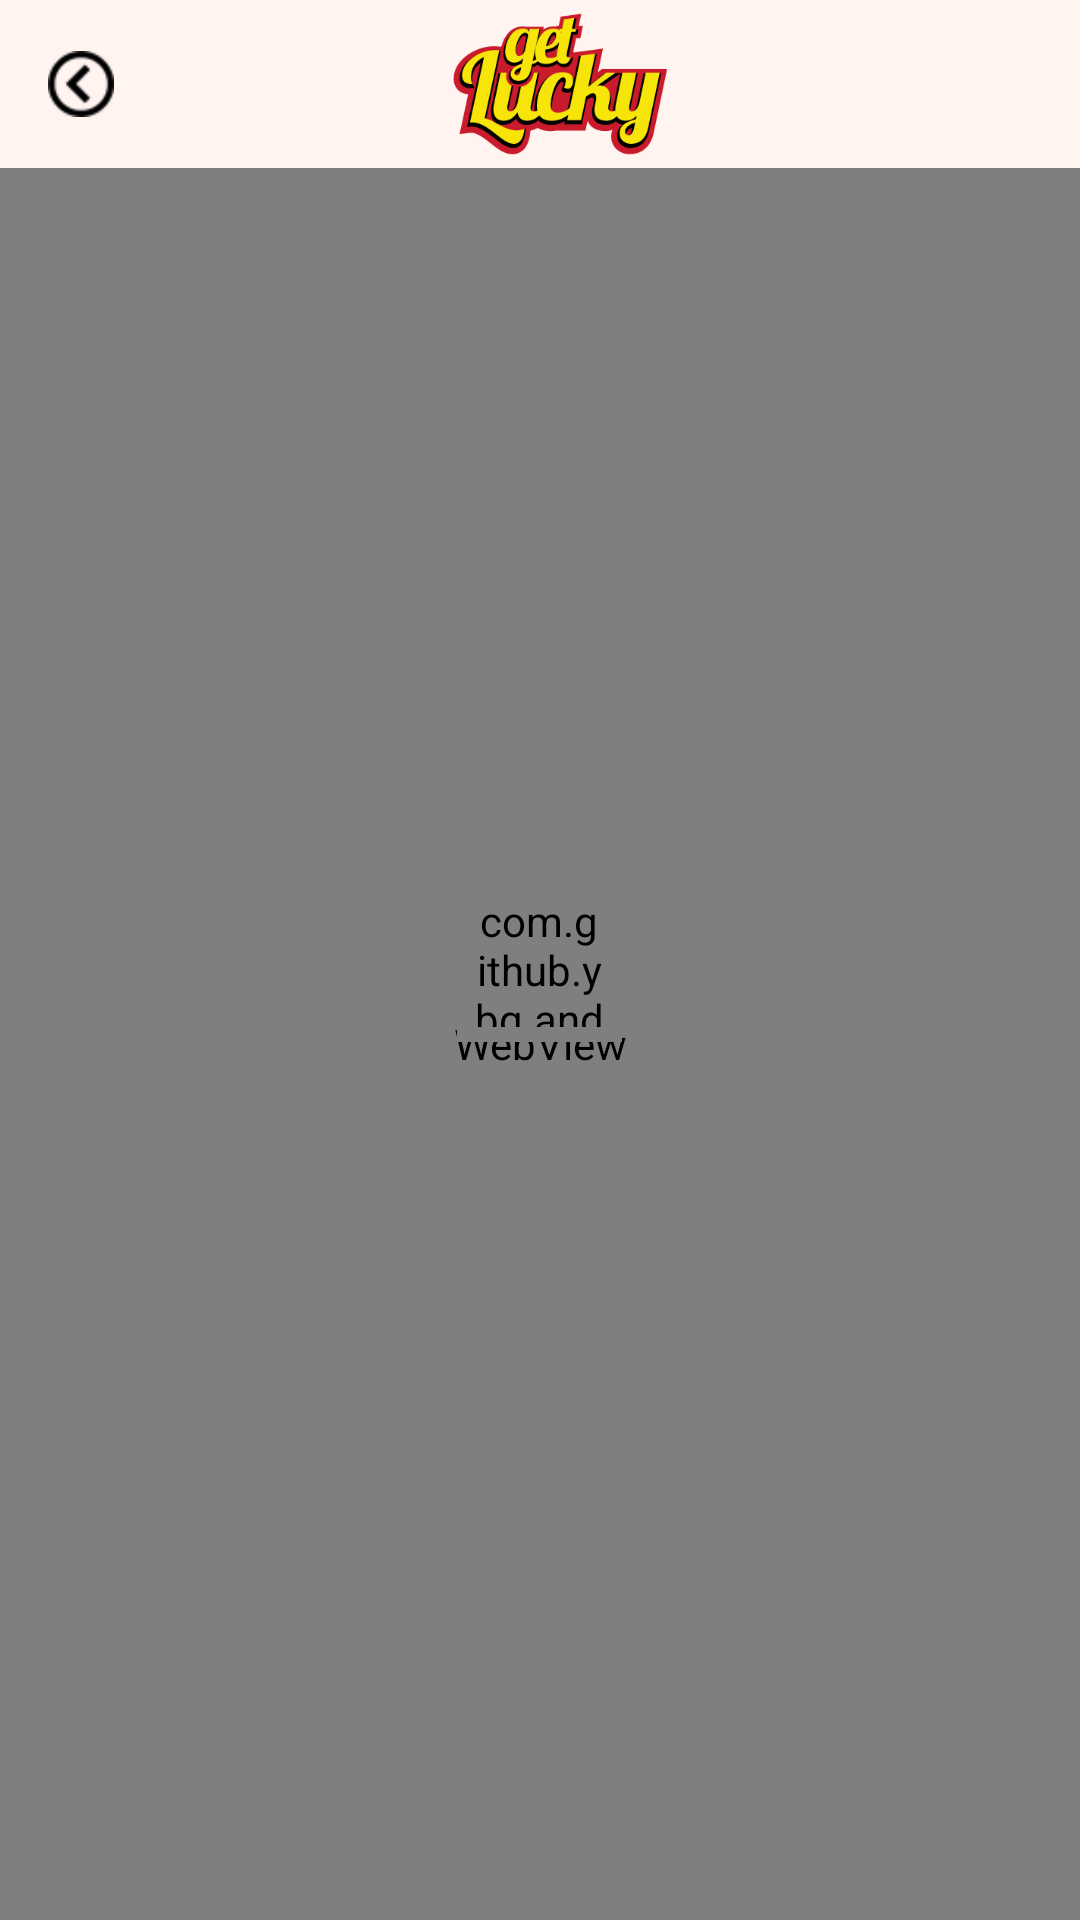

Named icons in this screenshot (1080*1920) and their bounding boxes, (x1, y1, x2, y2):
back: (48, 51, 114, 117)
